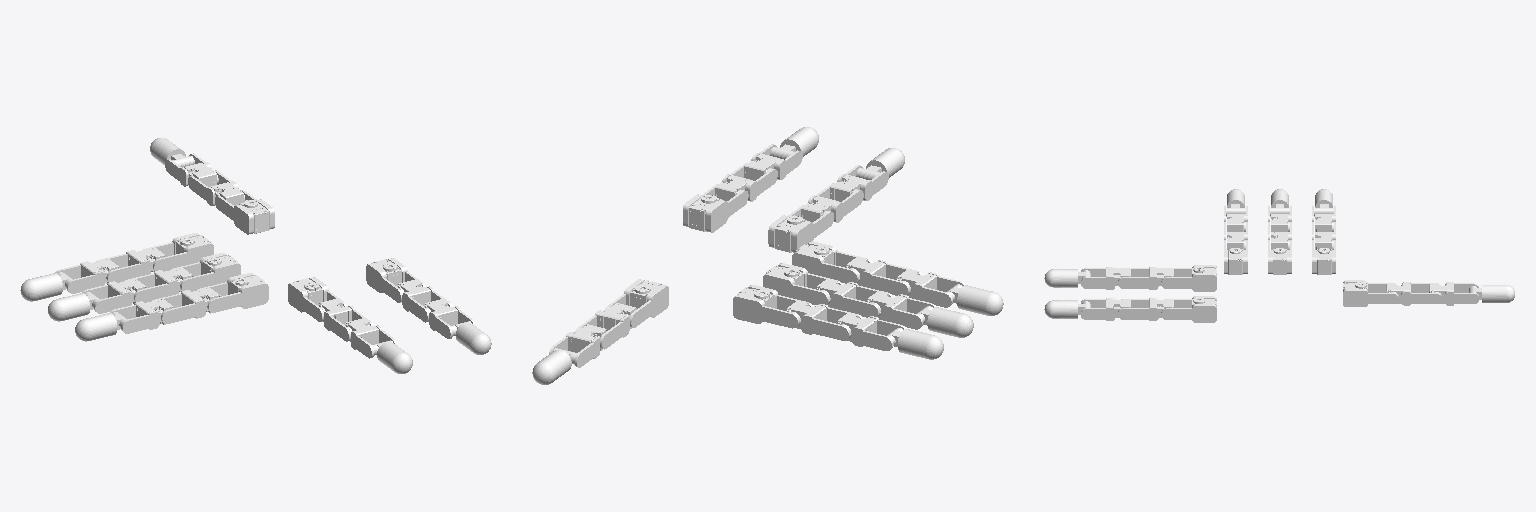
--- What the picture shows (computed from the rendered views, not written in the file) ---
3 views of the same robot in one strip: view 1: azimuth 30°, elevation 25°; view 2: azimuth 150°, elevation 25°; view 3: azimuth 270°, elevation 25° (orthographic).
Model converted_robot with 63 links and 62 joints (24 revolute, 38 fixed), rooted at world, posed all joints at 0.
Visible links, largest first — view 1: MCP_spread_motor_4, MCP_spread_motor_1, MCP_spread_motor_2, MCP_spread_motor_3, MCP_motor_4, MCP_spread_motor_6, MCP_spread_motor_5, MCP_motor_2, MCP_motor_3, PIP_DIP_motor_4, PIP_DIP_motor_3, PIP_DIP_motor__2 (+12 smaller); view 2: MCP_spread_motor_3, MCP_spread_motor_6, MCP_spread_motor_4, MCP_spread_motor_2, MCP_spread_motor_5, MCP_motor_3, MCP_motor_2, MCP_spread_motor_1, MCP_motor_4, PIP_DIP_motor_3, PIP_DIP_motor_4, PIP_DIP_motor__2 (+12 smaller); view 3: MCP_spread_motor_6, MCP_spread_motor_5, MCP_spread_motor_1, MCP_motor_1, MCP_motor_6, MCP_motor_5, PIP_DIP_motor_1, PIP_DIP_motor_5, PIP_DIP_motor_6, distal_5, distal_6, distal_1 (+3 smaller).
Link boxes in pixels (x1,y1,x2,y2): MCP_spread_motor_4: [198, 273, 268, 312]; MCP_spread_motor_1: [215, 190, 274, 234]; MCP_spread_motor_2: [169, 253, 240, 291]; MCP_spread_motor_3: [143, 233, 213, 271]; MCP_motor_4: [151, 287, 220, 323]; MCP_spread_motor_6: [366, 258, 425, 302]; MCP_spread_motor_5: [288, 277, 346, 321]; MCP_motor_2: [123, 268, 192, 302]; MCP_motor_3: [96, 248, 165, 282]; PIP_DIP_motor_4: [110, 299, 173, 333]; PIP_DIP_motor_3: [55, 259, 119, 293]; PIP_DIP_motor__2: [82, 279, 146, 313]; MCP_spread_motor_3: [733, 285, 812, 328]; MCP_spread_motor_6: [683, 184, 748, 232]; MCP_spread_motor_4: [792, 241, 872, 283]; MCP_spread_motor_2: [763, 263, 842, 304]; MCP_spread_motor_5: [768, 205, 833, 252]; MCP_motor_3: [786, 300, 863, 340]; MCP_motor_2: [816, 278, 893, 317]; MCP_spread_motor_1: [604, 279, 668, 327]; MCP_motor_4: [846, 257, 922, 295]; PIP_DIP_motor_3: [837, 312, 906, 350]; PIP_DIP_motor_4: [896, 269, 965, 307]; PIP_DIP_motor__2: [867, 291, 935, 329]; MCP_spread_motor_6: [1161, 296, 1216, 322]; MCP_spread_motor_5: [1161, 265, 1216, 291]; MCP_spread_motor_1: [1343, 280, 1398, 306]; MCP_motor_1: [1386, 282, 1441, 305]; MCP_motor_6: [1118, 298, 1173, 320]; MCP_motor_5: [1118, 267, 1173, 289]; PIP_DIP_motor_1: [1429, 282, 1478, 305]; PIP_DIP_motor_5: [1081, 267, 1130, 289]; PIP_DIP_motor_6: [1081, 298, 1130, 320]; distal_5: [1044, 269, 1090, 287]; distal_6: [1044, 300, 1090, 318]; distal_1: [1469, 285, 1514, 302].
Size in the robot's own frame: 0.3865 by 0.64 by 0.027 metres.
48 mesh visuals loaded from 8 distinct referenced files (8 binary STL).

robot.urdf — converted_robot:
<?xml version="1.0" ?>
<robot name="converted_robot">
   <link name="world">
      <inertial>
         <origin xyz="0.0 0.0 0.0" rpy="0.0 0.0 0.0"/>
         <mass value="0.0"/>
         <inertia ixx="0.0" iyy="0.0" izz="0.0" ixy="0" ixz="0" iyz="0"/>
      </inertial>
   </link>
   <link name="hand">
      <inertial>
         <origin xyz="0.0 0.0 0.0" rpy="0.0 0.0 0.0"/>
         <mass value="0.5120000000000001"/>
         <inertia ixx="0.0011093333333333337" iyy="0.0011093333333333337" izz="0.002184533333333334" ixy="0" ixz="0" iyz="0"/>
      </inertial>
   </link>
   <link name="world2world_fixed">
      <inertial>
         <origin xyz="0.0 0.0 0.0" rpy="0.0 0.0 0.0"/>
         <mass value="0.001"/>
         <inertia ixx="1e-09" iyy="1e-09" izz="1e-09" ixy="0" ixz="0" iyz="0"/>
      </inertial>
   </link>
   <joint type="fixed" name="world2world_fixed">
      <parent link="world"/>
      <child link="world2world_fixed"/>
      <origin xyz="0.0 0.0 0.01" rpy="0.0 0.0 0.0"/>
   </joint>
   <joint type="fixed" name="world2world_fixed_offset">
      <parent link="world2world_fixed"/>
      <child link="hand"/>
      <origin xyz="-0.0 -0.0 -0.0" rpy="0.0 0.0 0.0"/>
   </joint>
   <link name="finger_1">
      <inertial>
         <origin xyz="7.486488586106731e-09 -0.008795409811483749 0.00671379288753095" rpy="-5.62659578494751e-15 -1.551063345751673 1.5707963267949023"/>
         <mass value="0.005457218797018834"/>
         <inertia ixx="1.0756152518385642e-06" iyy="7.171729164374252e-07" izz="3.790810947574593e-07" ixy="0" ixz="0" iyz="0"/>
      </inertial>
      <visual name="base_link">
         <origin xyz="6.216408663460327e-08 2.3192417713995757e-06 0.004623478145951719" rpy="3.141592653589793 -1.5707963267948966 0.0"/>
         <geometry>
            <mesh filename="package://crawling_hand_description/converted_base_link.stl"/>
         </geometry>
         <material name="white"/>
      </visual>
   </link>
   <link name="hand2finger_1_fixed">
      <inertial>
         <origin xyz="0.0 0.0 0.0" rpy="0.0 0.0 0.0"/>
         <mass value="0.001"/>
         <inertia ixx="1e-09" iyy="1e-09" izz="1e-09" ixy="0" ixz="0" iyz="0"/>
      </inertial>
   </link>
   <joint type="fixed" name="hand2finger_1_fixed">
      <parent link="hand"/>
      <child link="hand2finger_1_fixed"/>
      <origin xyz="0.0 0.11 0.006" rpy="0.0 0.0 0.0"/>
   </joint>
   <joint type="fixed" name="hand2finger_1_fixed_offset">
      <parent link="hand2finger_1_fixed"/>
      <child link="finger_1"/>
      <origin xyz="-0.0 -0.0 -0.0" rpy="0.0 0.0 0.0"/>
   </joint>
   <link name="MCP_spread_motor_1">
      <inertial>
         <origin xyz="0.0003982548390317494 0.006056317763366704 -0.011559460451449984" rpy="0.19370178971530685 -1.5691490208487457 1.3077529046197847"/>
         <mass value="0.06051675954815346"/>
         <inertia ixx="2.814235433465105e-05" iyy="2.3892426850630282e-05" izz="7.857098025414057e-06" ixy="0" ixz="0" iyz="0"/>
      </inertial>
      <visual name="MCP_spread_motor_1">
         <origin xyz="-4.635344990172431e-05 -0.007515921440695716 -0.011428398130128803" rpy="1.5716895445470493 -0.03571975389681192 -0.004558496347485136"/>
         <geometry>
            <mesh filename="package://crawling_hand_description/converted_MCP_spread_motor_1.stl"/>
         </geometry>
         <material name="white"/>
      </visual>
      <visual name="metacarpal_1">
         <origin xyz="0.0005359663967735601 0.01026013998026553 -0.01160005527813145" rpy="0.9396397687264357 -1.5707910814168278 0.5458940371703993"/>
         <geometry>
            <mesh filename="package://crawling_hand_description/converted_metacarpal_1.stl"/>
         </geometry>
         <material name="white"/>
      </visual>
   </link>
   <link name="MCP_spread_1">
      <inertial>
         <origin xyz="0.0 0.0 0.0" rpy="0.0 0.0 0.0"/>
         <mass value="0.001"/>
         <inertia ixx="1e-09" iyy="1e-09" izz="1e-09" ixy="0" ixz="0" iyz="0"/>
      </inertial>
   </link>
   <joint type="revolute" name="MCP_spread_1">
      <parent link="finger_1"/>
      <child link="MCP_spread_1"/>
      <origin xyz="0.0 0.0 0.0036" rpy="0.0 0.0 0.0"/>
      <axis xyz="0.0 0.0 -1.0"/>
      <limit lower="-2.0" upper="2.0" effort="100" velocity="100"/>
   </joint>
   <joint type="fixed" name="MCP_spread_1_offset">
      <parent link="MCP_spread_1"/>
      <child link="MCP_spread_motor_1"/>
      <origin xyz="-0.0 -0.0 -0.0" rpy="0.0 0.0 0.0"/>
   </joint>
   <link name="MCP_motor_1">
      <inertial>
         <origin xyz="-0.010500762855210177 0.0279346378824954 -1.6453546218841143e-05" rpy="2.2142146406693315 -1.569753519206229 -0.7069429676930239"/>
         <mass value="0.04035147436542081"/>
         <inertia ixx="1.9492629690810927e-05" iyy="1.6523224440094084e-05" izz="4.743306102438892e-06" ixy="0" ixz="0" iyz="0"/>
      </inertial>
      <visual name="MCP_motor_1">
         <origin xyz="-0.011428398088521013 0.007515922825152364 -4.6353117932732e-05" rpy="1.4447302968900833 -1.5347869918721169 0.12687784385510545"/>
         <geometry>
            <mesh filename="package://crawling_hand_description/converted_MCP_motor_1.stl"/>
         </geometry>
         <material name="white"/>
      </visual>
      <visual name="proximal_1">
         <origin xyz="-0.009990938238875247 0.03915668206144257 -2.086111781582356e-08" rpy="1.3774808759047128 -1.5707963267948966 0.0"/>
         <geometry>
            <mesh filename="package://crawling_hand_description/converted_proximal_1.stl"/>
         </geometry>
         <material name="white"/>
      </visual>
   </link>
   <link name="MCP_1">
      <inertial>
         <origin xyz="0.0 0.0 0.0" rpy="0.0 0.0 0.0"/>
         <mass value="0.001"/>
         <inertia ixx="1e-09" iyy="1e-09" izz="1e-09" ixy="0" ixz="0" iyz="0"/>
      </inertial>
   </link>
   <joint type="revolute" name="MCP_1">
      <parent link="MCP_spread_motor_1"/>
      <child link="MCP_1"/>
      <origin xyz="0.0106 0.0435 -0.0116" rpy="0.0 0.0 0.0"/>
      <axis xyz="-1.0 0.0 0.0"/>
      <limit lower="-2.0" upper="2.0" effort="100" velocity="100"/>
   </joint>
   <joint type="fixed" name="MCP_1_offset">
      <parent link="MCP_1"/>
      <child link="MCP_motor_1"/>
      <origin xyz="-0.0 -0.0 -0.0" rpy="0.0 0.0 0.0"/>
   </joint>
   <link name="PIP_DIP_motor_1">
      <inertial>
         <origin xyz="-0.010914824701867876 0.02295944687359636 -1.8105084342263588e-05" rpy="2.242184262995694 -1.5697116962013469 -0.6928341602075203"/>
         <mass value="0.036640934606382555"/>
         <inertia ixx="1.3325542894551051e-05" iyy="1.0628111048812819e-05" izz="4.3975503665319475e-06" ixy="0" ixz="0" iyz="0"/>
      </inertial>
      <visual name="PIP_DIP_motor_1">
         <origin xyz="-0.011428398389228734 0.007515925594064665 -4.635318888735612e-05" rpy="1.444729319926511 -1.5347868813838343 0.12687878859745186"/>
         <geometry>
            <mesh filename="package://crawling_hand_description/converted_PIP_DIP_motor_1.stl"/>
         </geometry>
         <material name="white"/>
      </visual>
      <visual name="middle_1">
         <origin xyz="-0.01058566312317408 0.032857566598312835 -2.0296691237431386e-10" rpy="2.9223690462600653 -1.5707963267948966 0.0"/>
         <geometry>
            <mesh filename="package://crawling_hand_description/converted_middle_1.stl"/>
         </geometry>
         <material name="white"/>
      </visual>
   </link>
   <link name="PIP_1">
      <inertial>
         <origin xyz="0.0 0.0 0.0" rpy="0.0 0.0 0.0"/>
         <mass value="0.001"/>
         <inertia ixx="1e-09" iyy="1e-09" izz="1e-09" ixy="0" ixz="0" iyz="0"/>
      </inertial>
   </link>
   <joint type="revolute" name="PIP_1">
      <parent link="MCP_motor_1"/>
      <child link="PIP_1"/>
      <origin xyz="0.0 0.059 0.0" rpy="0.0 0.0 0.0"/>
      <axis xyz="-1.0 0.0 0.0"/>
      <limit lower="-2.0" upper="2.0" effort="100" velocity="100"/>
   </joint>
   <joint type="fixed" name="PIP_1_offset">
      <parent link="PIP_1"/>
      <child link="PIP_DIP_motor_1"/>
      <origin xyz="-0.0 -0.0 -0.0" rpy="0.0 0.0 0.0"/>
   </joint>
   <link name="distal_1">
      <inertial>
         <origin xyz="-0.013499999980733406 0.026097314775325453 5.960085598319398e-08" rpy="3.141592653589793 -1.570791449970143 -1.5707963267948966"/>
         <mass value="0.02347525072396419"/>
         <inertia ixx="6.947379008048446e-06" iyy="6.706879032267138e-06" izz="1.6774041387410145e-06" ixy="0" ixz="0" iyz="0"/>
      </inertial>
      <visual name="distal_1">
         <origin xyz="-0.013499999980733406 0.026097314775325453 5.960085598319398e-08" rpy="3.141592653589793 -1.570791449970143 -1.5707963267948966"/>
         <geometry>
            <mesh filename="package://crawling_hand_description/converted_distal_1.stl"/>
         </geometry>
         <material name="white"/>
      </visual>
   </link>
   <link name="DIP_1">
      <inertial>
         <origin xyz="0.0 0.0 0.0" rpy="0.0 0.0 0.0"/>
         <mass value="0.001"/>
         <inertia ixx="1e-09" iyy="1e-09" izz="1e-09" ixy="0" ixz="0" iyz="0"/>
      </inertial>
   </link>
   <joint type="revolute" name="DIP_1">
      <parent link="PIP_DIP_motor_1"/>
      <child link="DIP_1"/>
      <origin xyz="0.0029 0.0505 0.0" rpy="0.0 0.0 0.0"/>
      <axis xyz="1.0 0.0 0.0"/>
      <limit lower="-2.0" upper="2.0" effort="100" velocity="100"/>
   </joint>
   <joint type="fixed" name="DIP_1_offset">
      <parent link="DIP_1"/>
      <child link="distal_1"/>
      <origin xyz="-0.0 -0.0 -0.0" rpy="0.0 0.0 0.0"/>
   </joint>
   <link name="finger_2">
      <inertial>
         <origin xyz="7.486488586106731e-09 -0.008795409811483749 0.00671379288753095" rpy="-5.62659578494751e-15 -1.551063345751673 1.5707963267949023"/>
         <mass value="0.005457218797018834"/>
         <inertia ixx="1.0756152518385642e-06" iyy="7.171729164374252e-07" izz="3.790810947574593e-07" ixy="0" ixz="0" iyz="0"/>
      </inertial>
      <visual name="base_link">
         <origin xyz="6.216408663460327e-08 2.3192417713995757e-06 0.004623478145951719" rpy="3.141592653589793 -1.5707963267948966 0.0"/>
         <geometry>
            <mesh filename="package://crawling_hand_description/converted_base_link.stl"/>
         </geometry>
         <material name="white"/>
      </visual>
   </link>
   <link name="hand2finger_2_fixed">
      <inertial>
         <origin xyz="0.0 0.0 0.0" rpy="0.0 0.0 0.0"/>
         <mass value="0.001"/>
         <inertia ixx="1e-09" iyy="1e-09" izz="1e-09" ixy="0" ixz="0" iyz="0"/>
      </inertial>
   </link>
   <joint type="fixed" name="hand2finger_2_fixed">
      <parent link="hand"/>
      <child link="hand2finger_2_fixed"/>
      <origin xyz="-0.11 0.0 0.006" rpy="0.0 0.0 1.5707963267948963"/>
   </joint>
   <joint type="fixed" name="hand2finger_2_fixed_offset">
      <parent link="hand2finger_2_fixed"/>
      <child link="finger_2"/>
      <origin xyz="-0.0 -0.0 -0.0" rpy="0.0 0.0 0.0"/>
   </joint>
   <link name="MCP_spread_motor_2">
      <inertial>
         <origin xyz="0.0003982548390317494 0.006056317763366704 -0.011559460451449984" rpy="0.19370178971530685 -1.5691490208487457 1.3077529046197847"/>
         <mass value="0.06051675954815346"/>
         <inertia ixx="2.814235433465105e-05" iyy="2.3892426850630282e-05" izz="7.857098025414057e-06" ixy="0" ixz="0" iyz="0"/>
      </inertial>
      <visual name="MCP_spread_motor_1">
         <origin xyz="-4.635344990172431e-05 -0.007515921440695716 -0.011428398130128803" rpy="1.5716895445470493 -0.03571975389681192 -0.004558496347485136"/>
         <geometry>
            <mesh filename="package://crawling_hand_description/converted_MCP_spread_motor_1.stl"/>
         </geometry>
         <material name="white"/>
      </visual>
      <visual name="metacarpal_1">
         <origin xyz="0.0005359663967735601 0.01026013998026553 -0.01160005527813145" rpy="0.9396397687264357 -1.5707910814168278 0.5458940371703993"/>
         <geometry>
            <mesh filename="package://crawling_hand_description/converted_metacarpal_1.stl"/>
         </geometry>
         <material name="white"/>
      </visual>
   </link>
   <link name="MCP_spread_2">
      <inertial>
         <origin xyz="0.0 0.0 0.0" rpy="0.0 0.0 0.0"/>
         <mass value="0.001"/>
         <inertia ixx="1e-09" iyy="1e-09" izz="1e-09" ixy="0" ixz="0" iyz="0"/>
      </inertial>
   </link>
   <joint type="revolute" name="MCP_spread_2">
      <parent link="finger_2"/>
      <child link="MCP_spread_2"/>
      <origin xyz="0.0 0.0 0.0036" rpy="0.0 0.0 0.0"/>
      <axis xyz="0.0 0.0 -1.0"/>
      <limit lower="-2.0" upper="2.0" effort="100" velocity="100"/>
   </joint>
   <joint type="fixed" name="MCP_spread_2_offset">
      <parent link="MCP_spread_2"/>
      <child link="MCP_spread_motor_2"/>
      <origin xyz="-0.0 -0.0 -0.0" rpy="0.0 0.0 0.0"/>
   </joint>
   <link name="MCP_motor_2">
      <inertial>
         <origin xyz="-0.010500762855210177 0.0279346378824954 -1.6453546218841143e-05" rpy="2.2142146406693315 -1.569753519206229 -0.7069429676930239"/>
         <mass value="0.04035147436542081"/>
         <inertia ixx="1.9492629690810927e-05" iyy="1.6523224440094084e-05" izz="4.743306102438892e-06" ixy="0" ixz="0" iyz="0"/>
      </inertial>
      <visual name="MCP_motor_1">
         <origin xyz="-0.011428398088521013 0.007515922825152364 -4.6353117932732e-05" rpy="1.4447302968900833 -1.5347869918721169 0.12687784385510545"/>
         <geometry>
            <mesh filename="package://crawling_hand_description/converted_MCP_motor_1.stl"/>
         </geometry>
         <material name="white"/>
      </visual>
      <visual name="proximal_1">
         <origin xyz="-0.009990938238875247 0.03915668206144257 -2.086111781582356e-08" rpy="1.3774808759047128 -1.5707963267948966 0.0"/>
         <geometry>
            <mesh filename="package://crawling_hand_description/converted_proximal_1.stl"/>
         </geometry>
         <material name="white"/>
      </visual>
   </link>
   <link name="MCP_2">
      <inertial>
         <origin xyz="0.0 0.0 0.0" rpy="0.0 0.0 0.0"/>
         <mass value="0.001"/>
         <inertia ixx="1e-09" iyy="1e-09" izz="1e-09" ixy="0" ixz="0" iyz="0"/>
      </inertial>
   </link>
   <joint type="revolute" name="MCP_2">
      <parent link="MCP_spread_motor_2"/>
      <child link="MCP_2"/>
      <origin xyz="0.0106 0.0435 -0.0116" rpy="0.0 0.0 0.0"/>
      <axis xyz="-1.0 0.0 0.0"/>
      <limit lower="-2.0" upper="2.0" effort="100" velocity="100"/>
   </joint>
   <joint type="fixed" name="MCP_2_offset">
      <parent link="MCP_2"/>
      <child link="MCP_motor_2"/>
      <origin xyz="-0.0 -0.0 -0.0" rpy="0.0 0.0 0.0"/>
   </joint>
   <link name="PIP_DIP_motor__2">
      <inertial>
         <origin xyz="-0.010914824701867876 0.02295944687359636 -1.8105084342263588e-05" rpy="2.242184262995694 -1.5697116962013469 -0.6928341602075203"/>
         <mass value="0.036640934606382555"/>
         <inertia ixx="1.3325542894551051e-05" iyy="1.0628111048812819e-05" izz="4.3975503665319475e-06" ixy="0" ixz="0" iyz="0"/>
      </inertial>
      <visual name="PIP_DIP_motor_1">
         <origin xyz="-0.011428398389228734 0.007515925594064665 -4.635318888735612e-05" rpy="1.444729319926511 -1.5347868813838343 0.12687878859745186"/>
         <geometry>
            <mesh filename="package://crawling_hand_description/converted_PIP_DIP_motor_1.stl"/>
         </geometry>
         <material name="white"/>
      </visual>
      <visual name="middle_1">
         <origin xyz="-0.01058566312317408 0.032857566598312835 -2.0296691237431386e-10" rpy="2.9223690462600653 -1.5707963267948966 0.0"/>
         <geometry>
            <mesh filename="package://crawling_hand_description/converted_middle_1.stl"/>
         </geometry>
         <material name="white"/>
      </visual>
   </link>
   <link name="PIP_2">
      <inertial>
         <origin xyz="0.0 0.0 0.0" rpy="0.0 0.0 0.0"/>
         <mass value="0.001"/>
         <inertia ixx="1e-09" iyy="1e-09" izz="1e-09" ixy="0" ixz="0" iyz="0"/>
      </inertial>
   </link>
   <joint type="revolute" name="PIP_2">
      <parent link="MCP_motor_2"/>
      <child link="PIP_2"/>
      <origin xyz="0.0 0.059 0.0" rpy="0.0 0.0 0.0"/>
      <axis xyz="-1.0 0.0 0.0"/>
      <limit lower="-2.0" upper="2.0" effort="100" velocity="100"/>
   </joint>
   <joint type="fixed" name="PIP_2_offset">
      <parent link="PIP_2"/>
      <child link="PIP_DIP_motor__2"/>
      <origin xyz="-0.0 -0.0 -0.0" rpy="0.0 0.0 0.0"/>
   </joint>
   <link name="distal_2">
      <inertial>
         <origin xyz="-0.013499999980733406 0.026097314775325453 5.960085598319398e-08" rpy="3.141592653589793 -1.570791449970143 -1.5707963267948966"/>
         <mass value="0.02347525072396419"/>
         <inertia ixx="6.947379008048446e-06" iyy="6.706879032267138e-06" izz="1.6774041387410145e-06" ixy="0" ixz="0" iyz="0"/>
      </inertial>
      <visual name="distal_1">
         <origin xyz="-0.013499999980733406 0.026097314775325453 5.960085598319398e-08" rpy="3.141592653589793 -1.570791449970143 -1.5707963267948966"/>
         <geometry>
            <mesh filename="package://crawling_hand_description/converted_distal_1.stl"/>
         </geometry>
         <material name="white"/>
      </visual>
   </link>
   <link name="DIP_2">
      <inertial>
         <origin xyz="0.0 0.0 0.0" rpy="0.0 0.0 0.0"/>
         <mass value="0.001"/>
         <inertia ixx="1e-09" iyy="1e-09" izz="1e-09" ixy="0" ixz="0" iyz="0"/>
      </inertial>
   </link>
   <joint type="revolute" name="DIP_2">
      <parent link="PIP_DIP_motor__2"/>
      <child link="DIP_2"/>
      <origin xyz="0.0029 0.0505 0.0" rpy="0.0 0.0 0.0"/>
      <axis xyz="1.0 0.0 0.0"/>
      <limit lower="-2.0" upper="2.0" effort="100" velocity="100"/>
   </joint>
   <joint type="fixed" name="DIP_2_offset">
      <parent link="DIP_2"/>
      <child link="distal_2"/>
      <origin xyz="-0.0 -0.0 -0.0" rpy="0.0 0.0 0.0"/>
   </joint>
   <link name="finger_3">
      <inertial>
         <origin xyz="7.486488586106731e-09 -0.008795409811483749 0.00671379288753095" rpy="-5.62659578494751e-15 -1.551063345751673 1.5707963267949023"/>
         <mass value="0.005457218797018834"/>
         <inertia ixx="1.0756152518385642e-06" iyy="7.171729164374252e-07" izz="3.790810947574593e-07" ixy="0" ixz="0" iyz="0"/>
      </inertial>
      <visual name="base_link">
         <origin xyz="6.216408663460327e-08 2.3192417713995757e-06 0.004623478145951719" rpy="3.141592653589793 -1.5707963267948966 0.0"/>
         <geometry>
            <mesh filename="package://crawling_hand_description/converted_base_link.stl"/>
         </geometry>
         <material name="white"/>
      </visual>
   </link>
   <link name="hand2finger_3_fixed">
      <inertial>
         <origin xyz="0.0 0.0 0.0" rpy="0.0 0.0 0.0"/>
         <mass value="0.001"/>
         <inertia ixx="1e-09" iyy="1e-09" izz="1e-09" ixy="0" ixz="0" iyz="0"/>
      </inertial>
   </link>
   <joint type="fixed" name="hand2finger_3_fixed">
      <parent link="hand"/>
      <child link="hand2finger_3_fixed"/>
      <origin xyz="-0.11 0.06 0.006" rpy="0.0 0.0 1.5707963267948963"/>
   </joint>
   <joint type="fixed" name="hand2finger_3_fixed_offset">
      <parent link="hand2finger_3_fixed"/>
      <child link="finger_3"/>
      <origin xyz="-0.0 -0.0 -0.0" rpy="0.0 0.0 0.0"/>
   </joint>
   <link name="MCP_spread_motor_3">
      <inertial>
         <origin xyz="0.0003982548390317494 0.006056317763366704 -0.011559460451449984" rpy="0.19370178971530685 -1.5691490208487457 1.3077529046197847"/>
         <mass value="0.06051675954815346"/>
         <inertia ixx="2.814235433465105e-05" iyy="2.3892426850630282e-05" izz="7.857098025414057e-06" ixy="0" ixz="0" iyz="0"/>
      </inertial>
      <visual name="MCP_spread_motor_1">
         <origin xyz="-4.635344990172431e-05 -0.007515921440695716 -0.011428398130128803" rpy="1.5716895445470493 -0.03571975389681192 -0.004558496347485136"/>
         <geometry>
            <mesh filename="package://crawling_hand_description/converted_MCP_spread_motor_1.stl"/>
         </geometry>
         <material name="white"/>
      </visual>
      <visual name="metacarpal_1">
         <origin xyz="0.0005359663967735601 0.01026013998026553 -0.01160005527813145" rpy="0.9396397687264357 -1.5707910814168278 0.5458940371703993"/>
         <geometry>
            <mesh filename="package://crawling_hand_description/converted_metacarpal_1.stl"/>
         </geometry>
         <material name="white"/>
      </visual>
   </link>
   <link name="MCP_spread_3">
      <inertial>
         <origin xyz="0.0 0.0 0.0" rpy="0.0 0.0 0.0"/>
         <mass value="0.001"/>
         <inertia ixx="1e-09" iyy="1e-09" izz="1e-09" ixy="0" ixz="0" iyz="0"/>
      </inertial>
   </link>
   <joint type="revolute" name="MCP_spread_3">
      <parent link="finger_3"/>
      <child link="MCP_spread_3"/>
      <origin xyz="0.0 0.0 0.0036" rpy="0.0 0.0 0.0"/>
      <axis xyz="0.0 0.0 -1.0"/>
      <limit lower="-2.0" upper="2.0" effort="100" velocity="100"/>
   </joint>
   <joint type="fixed" name="MCP_spread_3_offset">
      <parent link="MCP_spread_3"/>
      <child link="MCP_spread_motor_3"/>
      <origin xyz="-0.0 -0.0 -0.0" rpy="0.0 0.0 0.0"/>
   </joint>
   <link name="MCP_motor_3">
      <inertial>
         <origin xyz="-0.010500762855210177 0.0279346378824954 -1.6453546218841143e-05" rpy="2.2142146406693315 -1.569753519206229 -0.7069429676930239"/>
         <mass value="0.04035147436542081"/>
         <inertia ixx="1.9492629690810927e-05" iyy="1.6523224440094084e-05" izz="4.743306102438892e-06" ixy="0" ixz="0" iyz="0"/>
      </inertial>
      <visual name="MCP_motor_1">
         <origin xyz="-0.011428398088521013 0.007515922825152364 -4.6353117932732e-05" rpy="1.4447302968900833 -1.5347869918721169 0.12687784385510545"/>
         <geometry>
            <mesh filename="package://crawling_hand_description/converted_MCP_motor_1.stl"/>
         </geometry>
         <material name="white"/>
      </visual>
      <visual name="proximal_1">
         <origin xyz="-0.009990938238875247 0.03915668206144257 -2.086111781582356e-08" rpy="1.3774808759047128 -1.5707963267948966 0.0"/>
         <geometry>
            <mesh filename="package://crawling_hand_description/converted_proximal_1.stl"/>
         </geometry>
         <material name="white"/>
      </visual>
   </link>
   <link name="MCP_3">
      <inertial>
         <origin xyz="0.0 0.0 0.0" rpy="0.0 0.0 0.0"/>
         <mass value="0.001"/>
         <inertia ixx="1e-09" iyy="1e-09" izz="1e-09" ixy="0" ixz="0" iyz="0"/>
      </inertial>
   </link>
   <joint type="revolute" name="MCP_3">
      <parent link="MCP_spread_motor_3"/>
      <child link="MCP_3"/>
      <origin xyz="0.0106 0.0435 -0.0116" rpy="0.0 0.0 0.0"/>
      <axis xyz="-1.0 0.0 0.0"/>
      <limit lower="-2.0" upper="2.0" effort="100" velocity="100"/>
   </joint>
   <joint type="fixed" name="MCP_3_offset">
      <parent link="MCP_3"/>
      <child link="MCP_motor_3"/>
      <origin xyz="-0.0 -0.0 -0.0" rpy="0.0 0.0 0.0"/>
   </joint>
   <link name="PIP_DIP_motor_3">
      <inertial>
         <origin xyz="-0.010914824701867876 0.02295944687359636 -1.8105084342263588e-05" rpy="2.242184262995694 -1.5697116962013469 -0.6928341602075203"/>
         <mass value="0.036640934606382555"/>
         <inertia ixx="1.3325542894551051e-05" iyy="1.0628111048812819e-05" izz="4.3975503665319475e-06" ixy="0" ixz="0" iyz="0"/>
      </inertial>
      <visual name="PIP_DIP_motor_1">
         <origin xyz="-0.011428398389228734 0.007515925594064665 -4.635318888735612e-05" rpy="1.444729319926511 -1.5347868813838343 0.12687878859745186"/>
         <geometry>
            <mesh filename="package://crawling_hand_description/converted_PIP_DIP_motor_1.stl"/>
         </geometry>
         <material name="white"/>
      </visual>
      <visual name="middle_1">
         <origin xyz="-0.01058566312317408 0.032857566598312835 -2.0296691237431386e-10" rpy="2.9223690462600653 -1.5707963267948966 0.0"/>
         <geometry>
            <mesh filename="package://crawling_hand_description/converted_middle_1.stl"/>
         </geometry>
         <material name="white"/>
      </visual>
   </link>
   <link name="PIP_3">
      <inertial>
         <origin xyz="0.0 0.0 0.0" rpy="0.0 0.0 0.0"/>
         <mass value="0.001"/>
         <inertia ixx="1e-09" iyy="1e-09" izz="1e-09" ixy="0" ixz="0" iyz="0"/>
      </inertial>
   </link>
   <joint type="revolute" name="PIP_3">
      <parent link="MCP_motor_3"/>
      <child link="PIP_3"/>
      <origin xyz="0.0 0.059 0.0" rpy="0.0 0.0 0.0"/>
      <axis xyz="-1.0 0.0 0.0"/>
      <limit lower="-2.0" upper="2.0" effort="100" velocity="100"/>
   </joint>
   <joint type="fixed" name="PIP_3_offset">
      <parent link="PIP_3"/>
      <child link="PIP_DIP_motor_3"/>
      <origin xyz="-0.0 -0.0 -0.0" rpy="0.0 0.0 0.0"/>
   </joint>
   <link name="distal_3">
      <inertial>
         <origin xyz="-0.013499999980733406 0.026097314775325453 5.960085598319398e-08" rpy="3.141592653589793 -1.570791449970143 -1.5707963267948966"/>
         <mass value="0.02347525072396419"/>
         <inertia ixx="6.947379008048446e-06" iyy="6.706879032267138e-06" izz="1.6774041387410145e-06" ixy="0" ixz="0" iyz="0"/>
      </inertial>
      <visual name="distal_1">
         <origin xyz="-0.013499999980733406 0.026097314775325453 5.960085598319398e-08" rpy="3.141592653589793 -1.570791449970143 -1.5707963267948966"/>
         <geometry>
            <mesh filename="package://crawling_hand_description/converted_distal_1.stl"/>
         </geometry>
         <material name="white"/>
      </visual>
   </link>
   <link name="DIP_3">
      <inertial>
         <origin xyz="0.0 0.0 0.0" rpy="0.0 0.0 0.0"/>
         <mass value="0.001"/>
         <inertia ixx="1e-09" iyy="1e-09" izz="1e-09" ixy="0" ixz="0" iyz="0"/>
      </inertial>
   </link>
   <joint type="revolute" name="DIP_3">
      <parent link="PIP_DIP_motor_3"/>
      <child link="DIP_3"/>
      <origin xyz="0.0029 0.0505 0.0" rpy="0.0 0.0 0.0"/>
      <axis xyz="1.0 0.0 0.0"/>
      <limit lower="-2.0" upper="2.0" effort="100" velocity="100"/>
   </joint>
   <joint type="fixed" name="DIP_3_offset">
      <parent link="DIP_3"/>
      <child link="distal_3"/>
      <origin xyz="-0.0 -0.0 -0.0" rpy="0.0 0.0 0.0"/>
   </joint>
   <link name="finger_4">
      <inertial>
         <origin xyz="7.486488586106731e-09 -0.008795409811483749 0.00671379288753095" rpy="-5.62659578494751e-15 -1.551063345751673 1.5707963267949023"/>
         <mass value="0.005457218797018834"/>
         <inertia ixx="1.0756152518385642e-06" iyy="7.171729164374252e-07" izz="3.790810947574593e-07" ixy="0" ixz="0" iyz="0"/>
      </inertial>
      <visual name="base_link">
         <origin xyz="6.216408663460327e-08 2.3192417713995757e-06 0.004623478145951719" rpy="3.141592653589793 -1.5707963267948966 0.0"/>
         <geometry>
            <mesh filename="package://crawling_hand_description/converted_base_link.stl"/>
         </geometry>
         <material name="white"/>
      </visual>
   </link>
   <link name="hand2finger_4_fixed">
      <inertial>
         <origin xyz="0.0 0.0 0.0" rpy="0.0 0.0 0.0"/>
         <mass value="0.001"/>
         <inertia ixx="1e-09" iyy="1e-09" izz="1e-09" ixy="0" ixz="0" iyz="0"/>
      </inertial>
   </link>
   <joint type="fixed" name="hand2finger_4_fixed">
      <parent link="hand"/>
      <child link="hand2finger_4_fixed"/>
      <origin xyz="-0.11 -0.06 0.006" rpy="0.0 0.0 1.5707963267948963"/>
   </joint>
   <joint type="fixed" name="hand2finger_4_fixed_offset">
      <parent link="hand2finger_4_fixed"/>
      <child link="finger_4"/>
      <origin xyz="-0.0 -0.0 -0.0" rpy="0.0 0.0 0.0"/>
   </joint>
   <link name="MCP_spread_motor_4">
      <inertial>
         <origin xyz="0.0003982548390317494 0.006056317763366704 -0.011559460451449984" rpy="0.19370178971530685 -1.5691490208487457 1.3077529046197847"/>
         <mass value="0.06051675954815346"/>
         <inertia ixx="2.814235433465105e-05" iyy="2.3892426850630282e-05" izz="7.857098025414057e-06" ixy="0" ixz="0" iyz="0"/>
      </inertial>
      <visual name="MCP_spread_motor_1">
         <origin xyz="-4.635344990172431e-05 -0.007515921440695716 -0.011428398130128803" rpy="1.5716895445470493 -0.03571975389681192 -0.004558496347485136"/>
         <geometry>
            <mesh filename="package://crawling_hand_description/converted_MCP_spread_motor_1.stl"/>
         </geometry>
         <material name="white"/>
      </visual>
      <visual name="metacarpal_1">
         <origin xyz="0.0005359663967735601 0.01026013998026553 -0.01160005527813145" rpy="0.9396397687264357 -1.5707910814168278 0.5458940371703993"/>
         <geometry>
            <mesh filename="package://crawling_hand_description/converted_metacarpal_1.stl"/>
         </geometry>
         <material name="white"/>
      </visual>
   </link>
   <link name="MCP_spread_4">
      <inertial>
         <origin xyz="0.0 0.0 0.0" rpy="0.0 0.0 0.0"/>
         <mass value="0.001"/>
         <inertia ixx="1e-09" iyy="1e-09" izz="1e-09" ixy="0" ixz="0" iyz="0"/>
      </inertial>
   </link>
   <joint type="revolute" name="MCP_spread_4">
      <parent link="finger_4"/>
      <child link="MCP_spread_4"/>
      <origin xyz="0.0 0.0 0.0036" rpy="0.0 0.0 0.0"/>
      <axis xyz="0.0 0.0 -1.0"/>
      <limit lower="-2.0" upper="2.0" effort="100" velocity="100"/>
   </joint>
   <joint type="fixed" name="MCP_spread_4_offset">
      <parent link="MCP_spread_4"/>
      <child link="MCP_spread_motor_4"/>
      <origin xyz="-0.0 -0.0 -0.0" rpy="0.0 0.0 0.0"/>
   </joint>
   <link name="MCP_motor_4">
      <inertial>
         <origin xyz="-0.010500762855210177 0.0279346378824954 -1.6453546218841143e-05" rpy="2.2142146406693315 -1.569753519206229 -0.7069429676930239"/>
         <mass value="0.04035147436542081"/>
         <inertia ixx="1.9492629690810927e-05" iyy="1.6523224440094084e-05" izz="4.743306102438892e-06" ixy="0" ixz="0" iyz="0"/>
      </inertial>
      <visual name="MCP_motor_1">
         <origin xyz="-0.011428398088521013 0.007515922825152364 -4.6353117932732e-05" rpy="1.4447302968900833 -1.5347869918721169 0.12687784385510545"/>
         <geometry>
            <mesh filename="package://crawling_hand_description/converted_MCP_motor_1.stl"/>
         </geometry>
         <material name="white"/>
      </visual>
      <visual name="proximal_1">
         <origin xyz="-0.009990938238875247 0.03915668206144257 -2.086111781582356e-08" rpy="1.3774808759047128 -1.5707963267948966 0.0"/>
         <geometry>
            <mesh filename="package://crawling_hand_description/converted_proximal_1.stl"/>
         </geometry>
         <material name="white"/>
      </visual>
   </link>
   <link name="MCP_4">
      <inertial>
         <origin xyz="0.0 0.0 0.0" rpy="0.0 0.0 0.0"/>
         <mass value="0.001"/>
         <inertia ixx="1e-09" iyy="1e-09" izz="1e-09" ixy="0" ixz="0" iyz="0"/>
      </inertial>
   </link>
   <joint type="revolute" name="MCP_4">
      <parent link="MCP_spread_motor_4"/>
      <child link="MCP_4"/>
      <origin xyz="0.0106 0.0435 -0.0116" rpy="0.0 0.0 0.0"/>
      <axis xyz="-1.0 0.0 0.0"/>
      <limit lower="-2.0" upper="2.0" effort="100" velocity="100"/>
   </joint>
   <joint type="fixed" name="MCP_4_offset">
      <parent link="MCP_4"/>
      <child link="MCP_motor_4"/>
      <origin xyz="-0.0 -0.0 -0.0" rpy="0.0 0.0 0.0"/>
   </joint>
   <link name="PIP_DIP_motor_4">
      <inertial>
         <origin xyz="-0.010914824701867876 0.02295944687359636 -1.8105084342263588e-05" rpy="2.242184262995694 -1.5697116962013469 -0.6928341602075203"/>
         <mass value="0.036640934606382555"/>
         <inertia ixx="1.3325542894551051e-05" iyy="1.0628111048812819e-05" izz="4.3975503665319475e-06" ixy="0" ixz="0" iyz="0"/>
      </inertial>
      <visual name="PIP_DIP_motor_1">
         <origin xyz="-0.011428398389228734 0.007515925594064665 -4.635318888735612e-05" rpy="1.444729319926511 -1.5347868813838343 0.12687878859745186"/>
         <geometry>
            <mesh filename="package://crawling_hand_description/converted_PIP_DIP_motor_1.stl"/>
         </geometry>
         <material name="white"/>
      </visual>
      <visual name="middle_1">
         <origin xyz="-0.01058566312317408 0.032857566598312835 -2.0296691237431386e-10" rpy="2.9223690462600653 -1.5707963267948966 0.0"/>
         <geometry>
            <mesh filename="package://crawling_hand_description/converted_middle_1.stl"/>
         </geometry>
         <material name="white"/>
      </visual>
   </link>
   <link name="PIP_4">
      <inertial>
         <origin xyz="0.0 0.0 0.0" rpy="0.0 0.0 0.0"/>
         <mass value="0.001"/>
         <inertia ixx="1e-09" iyy="1e-09" izz="1e-09" ixy="0" ixz="0" iyz="0"/>
      </inertial>
   </link>
   <joint type="revolute" name="PIP_4">
      <parent link="MCP_motor_4"/>
      <child link="PIP_4"/>
      <origin xyz="0.0 0.059 0.0" rpy="0.0 0.0 0.0"/>
      <axis xyz="-1.0 0.0 0.0"/>
      <limit lower="-2.0" upper="2.0" effort="100" velocity="100"/>
   </joint>
   <joint type="fixed" name="PIP_4_offset">
      <parent link="PIP_4"/>
      <child link="PIP_DIP_motor_4"/>
      <origin xyz="-0.0 -0.0 -0.0" rpy="0.0 0.0 0.0"/>
   </joint>
   <link name="distal_4">
      <inertial>
         <origin xyz="-0.013499999980733406 0.026097314775325453 5.960085598319398e-08" rpy="3.141592653589793 -1.570791449970143 -1.5707963267948966"/>
         <mass value="0.02347525072396419"/>
         <inertia ixx="6.947379008048446e-06" iyy="6.706879032267138e-06" izz="1.6774041387410145e-06" ixy="0" ixz="0" iyz="0"/>
      </inertial>
      <visual name="distal_1">
         <origin xyz="-0.013499999980733406 0.026097314775325453 5.960085598319398e-08" rpy="3.141592653589793 -1.570791449970143 -1.5707963267948966"/>
         <geometry>
            <mesh filename="package://crawling_hand_description/converted_distal_1.stl"/>
         </geometry>
         <material name="white"/>
      </visual>
   </link>
   <link name="DIP_4">
      <inertial>
         <origin xyz="0.0 0.0 0.0" rpy="0.0 0.0 0.0"/>
         <mass value="0.001"/>
         <inertia ixx="1e-09" iyy="1e-09" izz="1e-09" ixy="0" ixz="0" iyz="0"/>
      </inertial>
   </link>
   <joint type="revolute" name="DIP_4">
      <parent link="PIP_DIP_motor_4"/>
      <child link="DIP_4"/>
      <origin xyz="0.0029 0.0505 0.0" rpy="0.0 0.0 0.0"/>
      <axis xyz="1.0 0.0 0.0"/>
      <limit lower="-2.0" upper="2.0" effort="100" velocity="100"/>
   </joint>
   <joint type="fixed" name="DIP_4_offset">
      <parent link="DIP_4"/>
      <child link="distal_4"/>
      <origin xyz="-0.0 -0.0 -0.0" rpy="0.0 0.0 0.0"/>
   </joint>
   <link name="finger_5">
      <inertial>
         <origin xyz="7.486488586106731e-09 -0.008795409811483749 0.00671379288753095" rpy="-5.62659578494751e-15 -1.551063345751673 1.5707963267949023"/>
         <mass value="0.005457218797018834"/>
         <inertia ixx="1.0756152518385642e-06" iyy="7.171729164374252e-07" izz="3.790810947574593e-07" ixy="0" ixz="0" iyz="0"/>
      </inertial>
      <visual name="base_link">
         <origin xyz="6.216408663460327e-08 2.3192417713995757e-06 0.004623478145951719" rpy="3.141592653589793 -1.5707963267948966 0.0"/>
         <geometry>
            <mesh filename="package://crawling_hand_description/converted_base_link.stl"/>
         </geometry>
         <material name="white"/>
      </visual>
   </link>
   <link name="hand2finger_5_fixed">
      <inertial>
         <origin xyz="0.0 0.0 0.0" rpy="0.0 0.0 0.0"/>
         <mass value="0.001"/>
         <inertia ixx="1e-09" iyy="1e-09" izz="1e-09" ixy="0" ixz="0" iyz="0"/>
      </inertial>
   </link>
   <joint type="fixed" name="hand2finger_5_fixed">
      <parent link="hand"/>
      <child link="hand2finger_5_fixed"/>
      <origin xyz="-0.05 -0.11 0.006" rpy="0.0 0.0 3.141592653589793"/>
   </joint>
   <joint type="fixed" name="hand2finger_5_fixed_offset">
      <parent link="hand2finger_5_fixed"/>
      <child link="finger_5"/>
      <origin xyz="-0.0 -0.0 -0.0" rpy="0.0 0.0 0.0"/>
   </joint>
   <link name="MCP_spread_motor_5">
      <inertial>
         <origin xyz="0.0003982548390317494 0.006056317763366704 -0.011559460451449984" rpy="0.19370178971530685 -1.5691490208487457 1.3077529046197847"/>
         <mass value="0.06051675954815346"/>
         <inertia ixx="2.814235433465105e-05" iyy="2.3892426850630282e-05" izz="7.857098025414057e-06" ixy="0" ixz="0" iyz="0"/>
      </inertial>
      <visual name="MCP_spread_motor_1">
         <origin xyz="-4.635344990172431e-05 -0.007515921440695716 -0.011428398130128803" rpy="1.5716895445470493 -0.03571975389681192 -0.004558496347485136"/>
         <geometry>
            <mesh filename="package://crawling_hand_description/converted_MCP_spread_motor_1.stl"/>
         </geometry>
         <material name="white"/>
      </visual>
      <visual name="metacarpal_1">
         <origin xyz="0.0005359663967735601 0.01026013998026553 -0.01160005527813145" rpy="0.9396397687264357 -1.5707910814168278 0.5458940371703993"/>
         <geometry>
            <mesh filename="package://crawling_hand_description/converted_metacarpal_1.stl"/>
         </geometry>
         <material name="white"/>
      </visual>
   </link>
   <link name="MCP_spread_5">
      <inertial>
         <origin xyz="0.0 0.0 0.0" rpy="0.0 0.0 0.0"/>
         <mass value="0.001"/>
         <inertia ixx="1e-09" iyy="1e-09" izz="1e-09" ixy="0" ixz="0" iyz="0"/>
      </inertial>
   </link>
   <joint type="revolute" name="MCP_spread_5">
      <parent link="finger_5"/>
      <child link="MCP_spread_5"/>
      <origin xyz="0.0 0.0 0.0036" rpy="0.0 0.0 0.0"/>
      <axis xyz="0.0 0.0 -1.0"/>
      <limit lower="-2.0" upper="2.0" effort="100" velocity="100"/>
   </joint>
   <joint type="fixed" name="MCP_spread_5_offset">
      <parent link="MCP_spread_5"/>
      <child link="MCP_spread_motor_5"/>
      <origin xyz="-0.0 -0.0 -0.0" rpy="0.0 0.0 0.0"/>
   </joint>
   <link name="MCP_motor_5">
      <inertial>
         <origin xyz="-0.010500762855210177 0.0279346378824954 -1.6453546218841143e-05" rpy="2.2142146406693315 -1.569753519206229 -0.7069429676930239"/>
         <mass value="0.04035147436542081"/>
         <inertia ixx="1.9492629690810927e-05" iyy="1.6523224440094084e-05" izz="4.743306102438892e-06" ixy="0" ixz="0" iyz="0"/>
      </inertial>
      <visual name="MCP_motor_1">
         <origin xyz="-0.011428398088521013 0.007515922825152364 -4.6353117932732e-05" rpy="1.4447302968900833 -1.5347869918721169 0.12687784385510545"/>
         <geometry>
            <mesh filename="package://crawling_hand_description/converted_MCP_motor_1.stl"/>
         </geometry>
         <material name="white"/>
      </visual>
      <visual name="proximal_1">
         <origin xyz="-0.009990938238875247 0.03915668206144257 -2.086111781582356e-08" rpy="1.3774808759047128 -1.5707963267948966 0.0"/>
         <geometry>
            <mesh filename="package://crawling_hand_description/converted_proximal_1.stl"/>
         </geometry>
         <material name="white"/>
      </visual>
   </link>
   <link name="MCP_5">
      <inertial>
         <origin xyz="0.0 0.0 0.0" rpy="0.0 0.0 0.0"/>
         <mass value="0.001"/>
         <inertia ixx="1e-09" iyy="1e-09" izz="1e-09" ixy="0" ixz="0" iyz="0"/>
      </inertial>
   </link>
   <joint type="revolute" name="MCP_5">
      <parent link="MCP_spread_motor_5"/>
      <child link="MCP_5"/>
      <origin xyz="0.0106 0.0435 -0.0116" rpy="0.0 0.0 0.0"/>
      <axis xyz="-1.0 0.0 0.0"/>
      <limit lower="-2.0" upper="2.0" effort="100" velocity="100"/>
   </joint>
   <joint type="fixed" name="MCP_5_offset">
      <parent link="MCP_5"/>
      <child link="MCP_motor_5"/>
      <origin xyz="-0.0 -0.0 -0.0" rpy="0.0 0.0 0.0"/>
   </joint>
   <link name="PIP_DIP_motor_5">
      <inertial>
         <origin xyz="-0.010914824701867876 0.02295944687359636 -1.8105084342263588e-05" rpy="2.242184262995694 -1.5697116962013469 -0.6928341602075203"/>
         <mass value="0.036640934606382555"/>
         <inertia ixx="1.3325542894551051e-05" iyy="1.0628111048812819e-05" izz="4.3975503665319475e-06" ixy="0" ixz="0" iyz="0"/>
      </inertial>
      <visual name="PIP_DIP_motor_1">
         <origin xyz="-0.011428398389228734 0.007515925594064665 -4.635318888735612e-05" rpy="1.444729319926511 -1.5347868813838343 0.12687878859745186"/>
         <geometry>
            <mesh filename="package://crawling_hand_description/converted_PIP_DIP_motor_1.stl"/>
         </geometry>
         <material name="white"/>
      </visual>
      <visual name="middle_1">
         <origin xyz="-0.01058566312317408 0.032857566598312835 -2.0296691237431386e-10" rpy="2.9223690462600653 -1.5707963267948966 0.0"/>
         <geometry>
            <mesh filename="package://crawling_hand_description/converted_middle_1.stl"/>
         </geometry>
         <material name="white"/>
      </visual>
   </link>
   <link name="PIP_5">
      <inertial>
         <origin xyz="0.0 0.0 0.0" rpy="0.0 0.0 0.0"/>
         <mass value="0.001"/>
         <inertia ixx="1e-09" iyy="1e-09" izz="1e-09" ixy="0" ixz="0" iyz="0"/>
      </inertial>
   </link>
   <joint type="revolute" name="PIP_5">
      <parent link="MCP_motor_5"/>
      <child link="PIP_5"/>
      <origin xyz="0.0 0.059 0.0" rpy="0.0 0.0 0.0"/>
      <axis xyz="-1.0 0.0 0.0"/>
      <limit lower="-2.0" upper="2.0" effort="100" velocity="100"/>
   </joint>
   <joint type="fixed" name="PIP_5_offset">
      <parent link="PIP_5"/>
      <child link="PIP_DIP_motor_5"/>
      <origin xyz="-0.0 -0.0 -0.0" rpy="0.0 0.0 0.0"/>
   </joint>
   <link name="distal_5">
      <inertial>
         <origin xyz="-0.013499999980733406 0.026097314775325453 5.960085598319398e-08" rpy="3.141592653589793 -1.570791449970143 -1.5707963267948966"/>
         <mass value="0.02347525072396419"/>
         <inertia ixx="6.947379008048446e-06" iyy="6.706879032267138e-06" izz="1.6774041387410145e-06" ixy="0" ixz="0" iyz="0"/>
      </inertial>
      <visual name="distal_1">
         <origin xyz="-0.013499999980733406 0.026097314775325453 5.960085598319398e-08" rpy="3.141592653589793 -1.570791449970143 -1.5707963267948966"/>
         <geometry>
            <mesh filename="package://crawling_hand_description/converted_distal_1.stl"/>
         </geometry>
         <material name="white"/>
      </visual>
   </link>
   <link name="DIP_5">
      <inertial>
         <origin xyz="0.0 0.0 0.0" rpy="0.0 0.0 0.0"/>
         <mass value="0.001"/>
         <inertia ixx="1e-09" iyy="1e-09" izz="1e-09" ixy="0" ixz="0" iyz="0"/>
      </inertial>
   </link>
   <joint type="revolute" name="DIP_5">
      <parent link="PIP_DIP_motor_5"/>
      <child link="DIP_5"/>
      <origin xyz="0.0029 0.0505 0.0" rpy="0.0 0.0 0.0"/>
      <axis xyz="1.0 0.0 0.0"/>
      <limit lower="-2.0" upper="2.0" effort="100" velocity="100"/>
   </joint>
   <joint type="fixed" name="DIP_5_offset">
      <parent link="DIP_5"/>
      <child link="distal_5"/>
      <origin xyz="-0.0 -0.0 -0.0" rpy="0.0 0.0 0.0"/>
   </joint>
   <link name="finger_6">
      <inertial>
         <origin xyz="7.486488586106731e-09 -0.008795409811483749 0.00671379288753095" rpy="-5.62659578494751e-15 -1.551063345751673 1.5707963267949023"/>
         <mass value="0.005457218797018834"/>
         <inertia ixx="1.0756152518385642e-06" iyy="7.171729164374252e-07" izz="3.790810947574593e-07" ixy="0" ixz="0" iyz="0"/>
      </inertial>
      <visual name="base_link">
         <origin xyz="6.216408663460327e-08 2.3192417713995757e-06 0.004623478145951719" rpy="3.141592653589793 -1.5707963267948966 0.0"/>
         <geometry>
            <mesh filename="package://crawling_hand_description/converted_base_link.stl"/>
         </geometry>
         <material name="white"/>
      </visual>
   </link>
   <link name="hand2finger_6_fixed">
      <inertial>
         <origin xyz="0.0 0.0 0.0" rpy="0.0 0.0 0.0"/>
         <mass value="0.001"/>
         <inertia ixx="1e-09" iyy="1e-09" izz="1e-09" ixy="0" ixz="0" iyz="0"/>
      </inertial>
   </link>
   <joint type="fixed" name="hand2finger_6_fixed">
      <parent link="hand"/>
      <child link="hand2finger_6_fixed"/>
      <origin xyz="0.05 -0.11 0.006" rpy="0.0 0.0 3.141592653589793"/>
   </joint>
   <joint type="fixed" name="hand2finger_6_fixed_offset">
      <parent link="hand2finger_6_fixed"/>
      <child link="finger_6"/>
      <origin xyz="-0.0 -0.0 -0.0" rpy="0.0 0.0 0.0"/>
   </joint>
   <link name="MCP_spread_motor_6">
      <inertial>
         <origin xyz="0.0003982548390317494 0.006056317763366704 -0.011559460451449984" rpy="0.19370178971530685 -1.5691490208487457 1.3077529046197847"/>
         <mass value="0.06051675954815346"/>
         <inertia ixx="2.814235433465105e-05" iyy="2.3892426850630282e-05" izz="7.857098025414057e-06" ixy="0" ixz="0" iyz="0"/>
      </inertial>
      <visual name="MCP_spread_motor_1">
         <origin xyz="-4.635344990172431e-05 -0.007515921440695716 -0.011428398130128803" rpy="1.5716895445470493 -0.03571975389681192 -0.004558496347485136"/>
         <geometry>
            <mesh filename="package://crawling_hand_description/converted_MCP_spread_motor_1.stl"/>
         </geometry>
         <material name="white"/>
      </visual>
      <visual name="metacarpal_1">
         <origin xyz="0.0005359663967735601 0.01026013998026553 -0.01160005527813145" rpy="0.9396397687264357 -1.5707910814168278 0.5458940371703993"/>
         <geometry>
            <mesh filename="package://crawling_hand_description/converted_metacarpal_1.stl"/>
         </geometry>
         <material name="white"/>
      </visual>
   </link>
   <link name="MCP_spread_6">
      <inertial>
         <origin xyz="0.0 0.0 0.0" rpy="0.0 0.0 0.0"/>
         <mass value="0.001"/>
         <inertia ixx="1e-09" iyy="1e-09" izz="1e-09" ixy="0" ixz="0" iyz="0"/>
      </inertial>
   </link>
   <joint type="revolute" name="MCP_spread_6">
      <parent link="finger_6"/>
      <child link="MCP_spread_6"/>
      <origin xyz="0.0 0.0 0.0036" rpy="0.0 0.0 0.0"/>
      <axis xyz="0.0 0.0 -1.0"/>
      <limit lower="-2.0" upper="2.0" effort="100" velocity="100"/>
   </joint>
   <joint type="fixed" name="MCP_spread_6_offset">
      <parent link="MCP_spread_6"/>
      <child link="MCP_spread_motor_6"/>
      <origin xyz="-0.0 -0.0 -0.0" rpy="0.0 0.0 0.0"/>
   </joint>
   <link name="MCP_motor_6">
      <inertial>
         <origin xyz="-0.010500762855210177 0.0279346378824954 -1.6453546218841143e-05" rpy="2.2142146406693315 -1.569753519206229 -0.7069429676930239"/>
         <mass value="0.04035147436542081"/>
         <inertia ixx="1.9492629690810927e-05" iyy="1.6523224440094084e-05" izz="4.743306102438892e-06" ixy="0" ixz="0" iyz="0"/>
      </inertial>
      <visual name="MCP_motor_1">
         <origin xyz="-0.011428398088521013 0.007515922825152364 -4.6353117932732e-05" rpy="1.4447302968900833 -1.5347869918721169 0.12687784385510545"/>
         <geometry>
            <mesh filename="package://crawling_hand_description/converted_MCP_motor_1.stl"/>
         </geometry>
         <material name="white"/>
      </visual>
      <visual name="proximal_1">
         <origin xyz="-0.009990938238875247 0.03915668206144257 -2.086111781582356e-08" rpy="1.3774808759047128 -1.5707963267948966 0.0"/>
         <geometry>
            <mesh filename="package://crawling_hand_description/converted_proximal_1.stl"/>
         </geometry>
         <material name="white"/>
      </visual>
   </link>
   <link name="MCP_6">
      <inertial>
         <origin xyz="0.0 0.0 0.0" rpy="0.0 0.0 0.0"/>
         <mass value="0.001"/>
         <inertia ixx="1e-09" iyy="1e-09" izz="1e-09" ixy="0" ixz="0" iyz="0"/>
      </inertial>
   </link>
   <joint type="revolute" name="MCP_6">
      <parent link="MCP_spread_motor_6"/>
      <child link="MCP_6"/>
      <origin xyz="0.0106 0.0435 -0.0116" rpy="0.0 0.0 0.0"/>
      <axis xyz="-1.0 0.0 0.0"/>
      <limit lower="-2.0" upper="2.0" effort="100" velocity="100"/>
   </joint>
   <joint type="fixed" name="MCP_6_offset">
      <parent link="MCP_6"/>
      <child link="MCP_motor_6"/>
      <origin xyz="-0.0 -0.0 -0.0" rpy="0.0 0.0 0.0"/>
   </joint>
   <link name="PIP_DIP_motor_6">
      <inertial>
         <origin xyz="-0.010914824701867876 0.02295944687359636 -1.8105084342263588e-05" rpy="2.242184262995694 -1.5697116962013469 -0.6928341602075203"/>
         <mass value="0.036640934606382555"/>
         <inertia ixx="1.3325542894551051e-05" iyy="1.0628111048812819e-05" izz="4.3975503665319475e-06" ixy="0" ixz="0" iyz="0"/>
      </inertial>
      <visual name="PIP_DIP_motor_1">
         <origin xyz="-0.011428398389228734 0.007515925594064665 -4.635318888735612e-05" rpy="1.444729319926511 -1.5347868813838343 0.12687878859745186"/>
         <geometry>
            <mesh filename="package://crawling_hand_description/converted_PIP_DIP_motor_1.stl"/>
         </geometry>
         <material name="white"/>
      </visual>
      <visual name="middle_1">
         <origin xyz="-0.01058566312317408 0.032857566598312835 -2.0296691237431386e-10" rpy="2.9223690462600653 -1.5707963267948966 0.0"/>
         <geometry>
            <mesh filename="package://crawling_hand_description/converted_middle_1.stl"/>
         </geometry>
         <material name="white"/>
      </visual>
   </link>
   <link name="PIP_6">
      <inertial>
         <origin xyz="0.0 0.0 0.0" rpy="0.0 0.0 0.0"/>
         <mass value="0.001"/>
         <inertia ixx="1e-09" iyy="1e-09" izz="1e-09" ixy="0" ixz="0" iyz="0"/>
      </inertial>
   </link>
   <joint type="revolute" name="PIP_6">
      <parent link="MCP_motor_6"/>
      <child link="PIP_6"/>
      <origin xyz="0.0 0.059 0.0" rpy="0.0 0.0 0.0"/>
      <axis xyz="-1.0 0.0 0.0"/>
      <limit lower="-2.0" upper="2.0" effort="100" velocity="100"/>
   </joint>
   <joint type="fixed" name="PIP_6_offset">
      <parent link="PIP_6"/>
      <child link="PIP_DIP_motor_6"/>
      <origin xyz="-0.0 -0.0 -0.0" rpy="0.0 0.0 0.0"/>
   </joint>
   <link name="distal_6">
      <inertial>
         <origin xyz="-0.013499999980733406 0.026097314775325453 5.960085598319398e-08" rpy="3.141592653589793 -1.570791449970143 -1.5707963267948966"/>
         <mass value="0.02347525072396419"/>
         <inertia ixx="6.947379008048446e-06" iyy="6.706879032267138e-06" izz="1.6774041387410145e-06" ixy="0" ixz="0" iyz="0"/>
      </inertial>
      <visual name="distal_1">
         <origin xyz="-0.013499999980733406 0.026097314775325453 5.960085598319398e-08" rpy="3.141592653589793 -1.570791449970143 -1.5707963267948966"/>
         <geometry>
            <mesh filename="package://crawling_hand_description/converted_distal_1.stl"/>
         </geometry>
         <material name="white"/>
      </visual>
   </link>
   <link name="DIP_6">
      <inertial>
         <origin xyz="0.0 0.0 0.0" rpy="0.0 0.0 0.0"/>
         <mass value="0.001"/>
         <inertia ixx="1e-09" iyy="1e-09" izz="1e-09" ixy="0" ixz="0" iyz="0"/>
      </inertial>
   </link>
   <joint type="revolute" name="DIP_6">
      <parent link="PIP_DIP_motor_6"/>
      <child link="DIP_6"/>
      <origin xyz="0.0029 0.0505 0.0" rpy="0.0 0.0 0.0"/>
      <axis xyz="1.0 0.0 0.0"/>
      <limit lower="-2.0" upper="2.0" effort="100" velocity="100"/>
   </joint>
   <joint type="fixed" name="DIP_6_offset">
      <parent link="DIP_6"/>
      <child link="distal_6"/>
      <origin xyz="-0.0 -0.0 -0.0" rpy="0.0 0.0 0.0"/>
   </joint>
   <material name="white">
      <color rgba="1 1 1 1"/>
   </material>
</robot>
